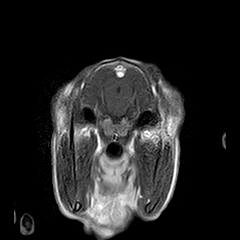Brain: (72, 27, 171, 125)
